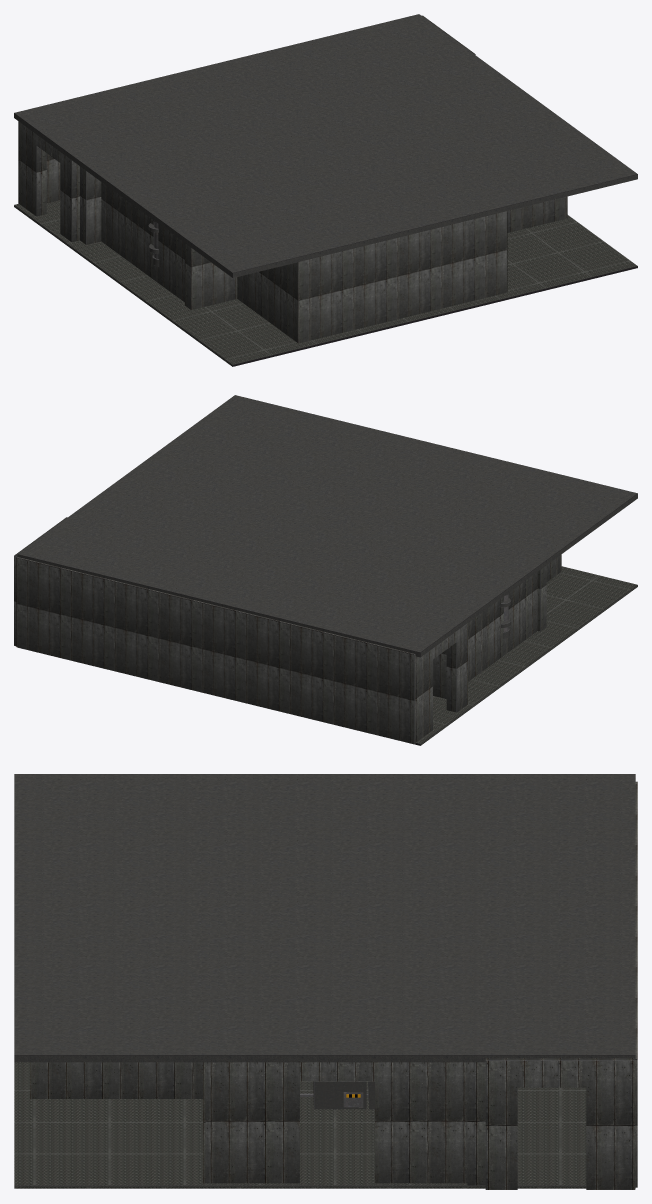
Rendered from SCP-096 Room.obj.
3 renders of one model, top to bottom at view 1: azimuth 30°, elevation 25°; view 2: azimuth 150°, elevation 25°; view 3: azimuth 270°, elevation 25°, orthographic. The views are drawn at different scales.
Parts seen in each view (by area): view 1: Part255, Wall31, Part272, Wall19, Wall47, Union59, Part254, Wall52, Wall10, Union63, Part269, Part258 (+5 smaller); view 2: Part255, Wall4, Part272, Wall19, Union59, Part256, Part258, Union60, Union30, Part253, Part271, Wall2; view 3: Part255, Part272, Union48, Union2, Wall42, Part259, Union31, Part270, Part542, Wall2, Part253.
Part boxes in pixels (x1,y1,x2,y2): Part255: (14, 14, 636, 272); Wall31: (298, 211, 506, 343); Part272: (14, 200, 637, 364); Wall19: (101, 182, 184, 302); Wall47: (237, 262, 298, 342); Union59: (19, 122, 71, 241); Part254: (233, 174, 637, 277); Wall52: (191, 248, 237, 309); Wall10: (507, 196, 567, 232); Union63: (36, 146, 79, 242); Part269: (14, 205, 637, 366); Part258: (14, 113, 232, 277); Part255: (18, 395, 637, 652); Wall4: (16, 557, 414, 744); Part272: (416, 566, 637, 743); Wall19: (468, 572, 537, 681); Union59: (415, 623, 467, 742); Part256: (17, 554, 420, 657); Part258: (420, 494, 637, 656); Union60: (446, 642, 456, 712); Union30: (433, 650, 446, 698); Part253: (18, 493, 637, 656); Part271: (420, 585, 637, 745); Wall2: (17, 557, 414, 654); Part255: (14, 774, 635, 1054); Part272: (14, 1062, 586, 1185); Union48: (205, 1062, 467, 1183); Union2: (485, 1061, 635, 1189); Wall42: (30, 1062, 203, 1098); Part259: (14, 1055, 635, 1062); Union31: (467, 1062, 485, 1185); Part270: (14, 1186, 635, 1188); Part542: (314, 1081, 366, 1109); Wall2: (635, 781, 637, 1059); Part253: (14, 1055, 635, 1055).
Size of the model in its own units: 46.43 by 10.2 by 43.18.
21 materials, 10 textured.
